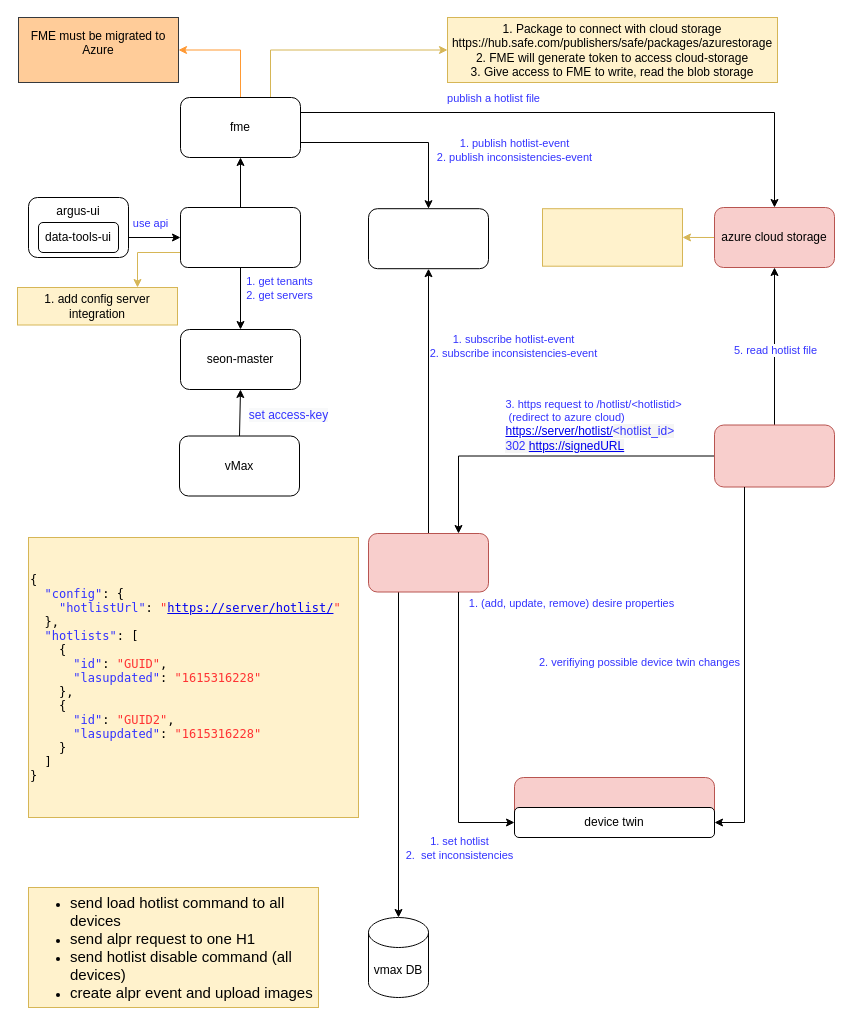
Some shapes in this 852 by 1031 pixel diagram are drawn without their labels. Each missing label, with the box of its shape:
1. one storage for FME 2. container per Tenant: (542, 208, 682, 266)
Argus-api: (368, 532, 488, 592)
data-tools-api: (180, 206, 300, 268)
H1: (714, 424, 834, 487)
iot hub: (514, 776, 714, 838)
kafka topics: (368, 208, 488, 269)
